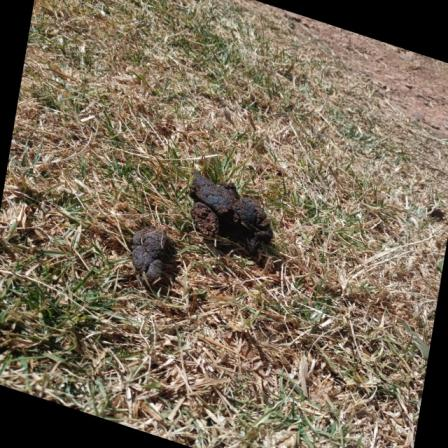dog-poop: (185, 163, 269, 250), (127, 222, 172, 294)
